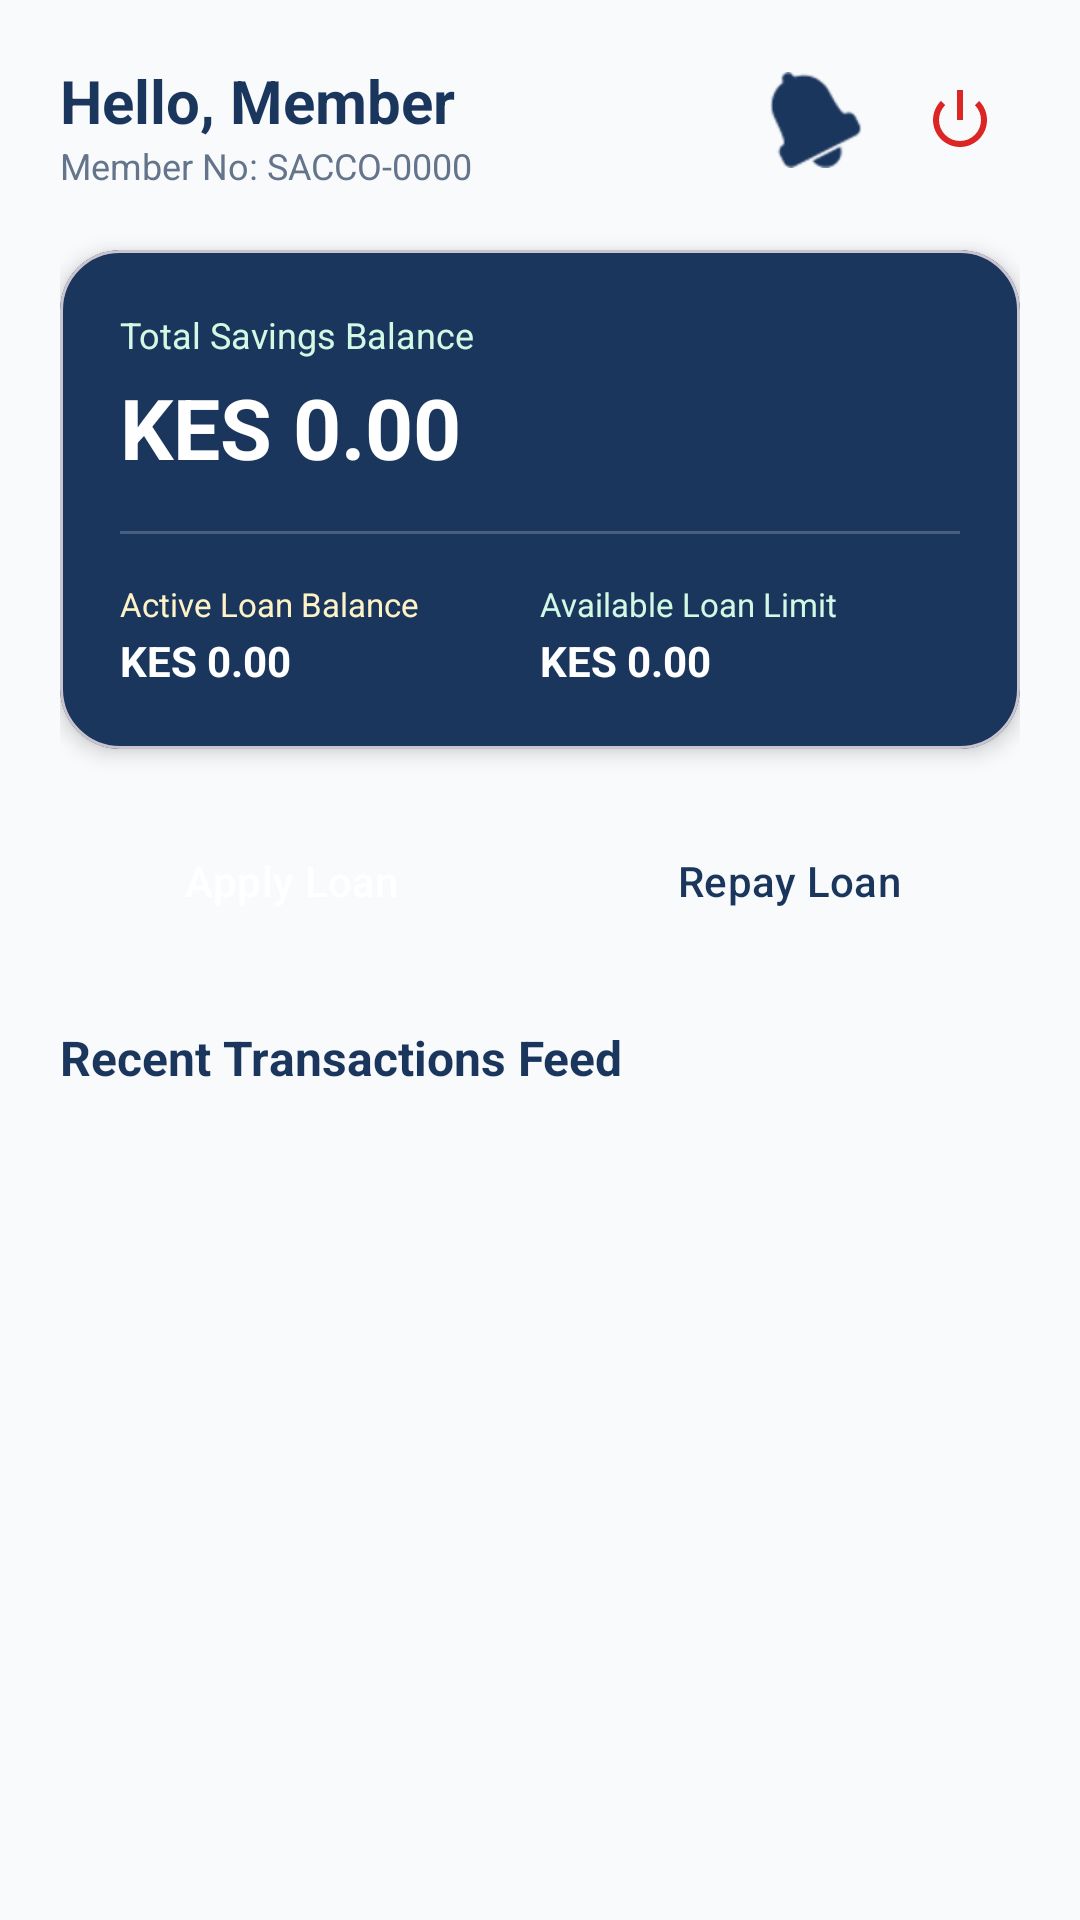

Where icons sit on this 1080 x 1920 app screen, as (x1, y1, x2, y2):
Notifications: (771, 72, 861, 168)
